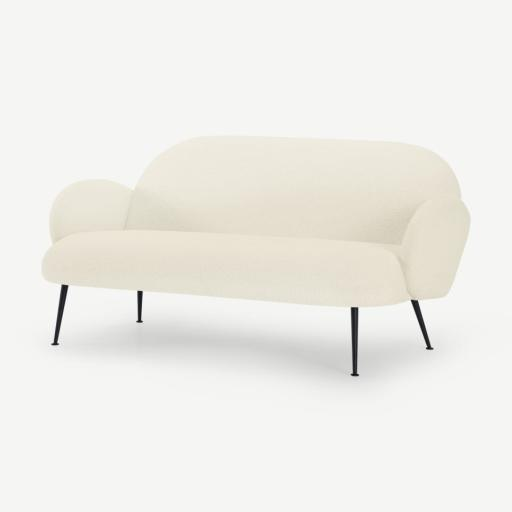back_cushion: (125, 137, 460, 244)
left_arm: (400, 194, 469, 300)
legs: (412, 301, 433, 350), (52, 285, 68, 346), (351, 307, 358, 376), (136, 291, 143, 323)
one-seater: (42, 137, 469, 375)
right_arm: (50, 180, 132, 243)
seat_cushion: (42, 231, 409, 306)
